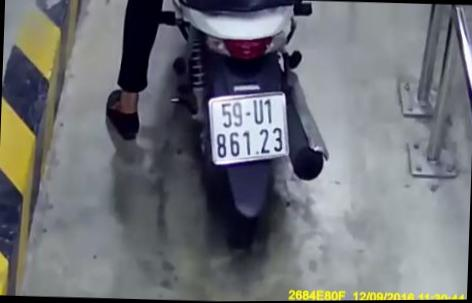LP: (206, 94, 292, 166)
